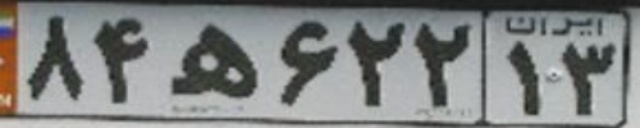1: (506, 38, 543, 114)
2: (413, 19, 473, 107), (349, 20, 400, 108)
3: (560, 41, 618, 116)
4: (93, 15, 155, 102)
6: (274, 19, 342, 103)
8: (29, 14, 87, 99)
he: (168, 22, 262, 99)
